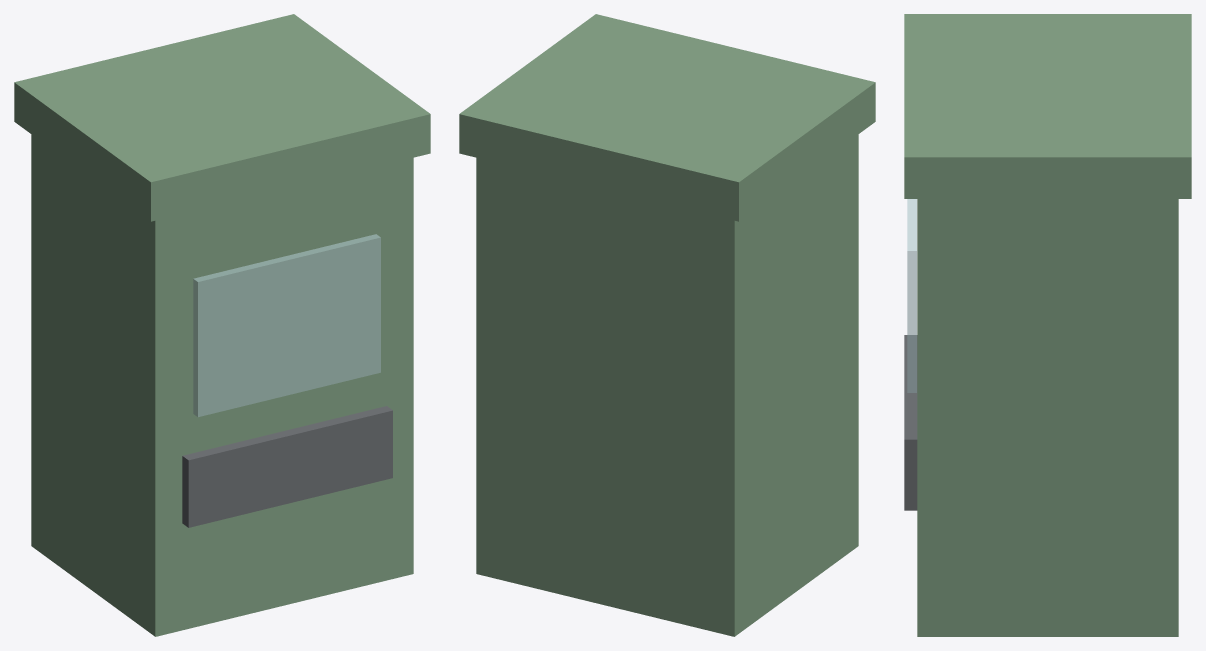
Rendered from newspaper_box_03.glb.
The picture shows the model from 3 angles, left to right: view 1: azimuth 30°, elevation 25°; view 2: azimuth 150°, elevation 25°; view 3: azimuth 270°, elevation 25°; orthographic projection. The views are drawn at different scales.
Visible parts, largest first — view 1: body, top, window, door; view 2: body, top; view 3: body, top, door, window.
Boxes of the visible parts, x1,y1,x2,y2 form: body: (31,134,413,636); top: (14,14,430,221); window: (193,234,380,416); door: (182,406,392,527); body: (476,134,858,636); top: (459,14,875,221); body: (917,199,1178,636); top: (904,14,1191,198); door: (904,335,917,510); window: (907,199,916,392).
Bounding box in the file's own units: 0.52 × 0.82 × 0.44.
